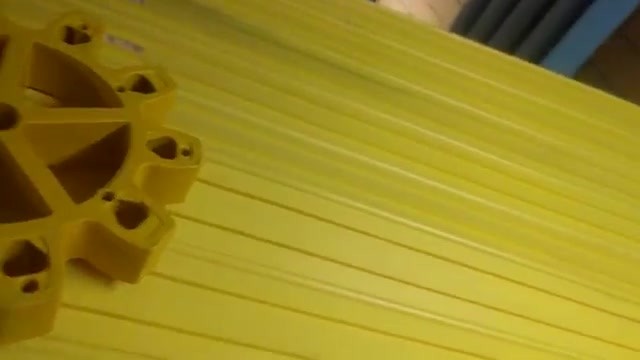gear: (1, 6, 216, 336)
